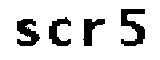5: (114, 6, 151, 50)
c: (47, 17, 73, 48)
r: (79, 15, 107, 48)
s: (13, 17, 40, 49)
